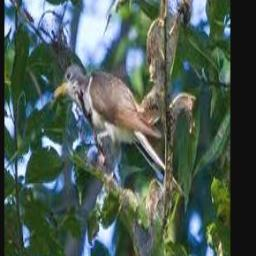Cuckoo: (55, 64, 186, 200)
